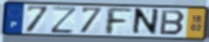7: (80, 6, 105, 35), (26, 5, 50, 34)
B: (158, 8, 187, 36)
F: (104, 6, 134, 36)
N: (130, 8, 161, 37)
Z: (49, 5, 79, 34)
